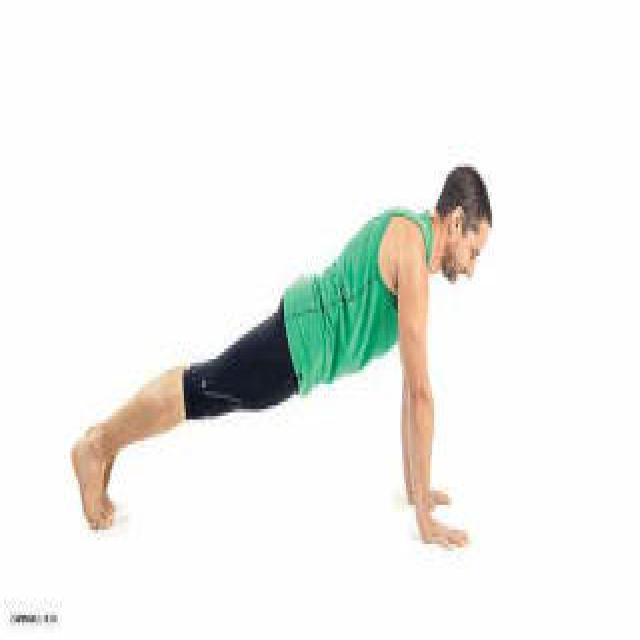yoga-pose plank: (68, 163, 504, 551)
